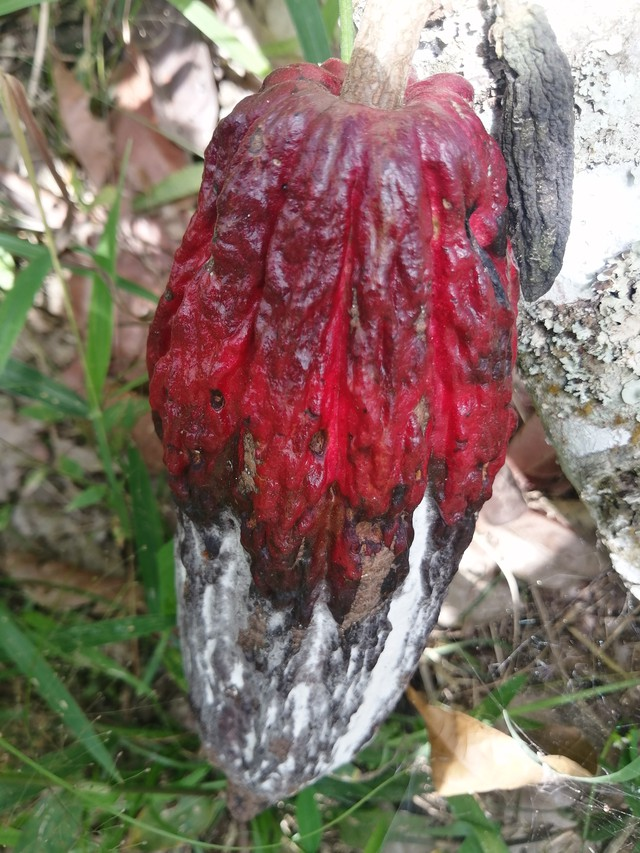moniliophthora roreri: (93, 41, 525, 828), (463, 1, 595, 310)
